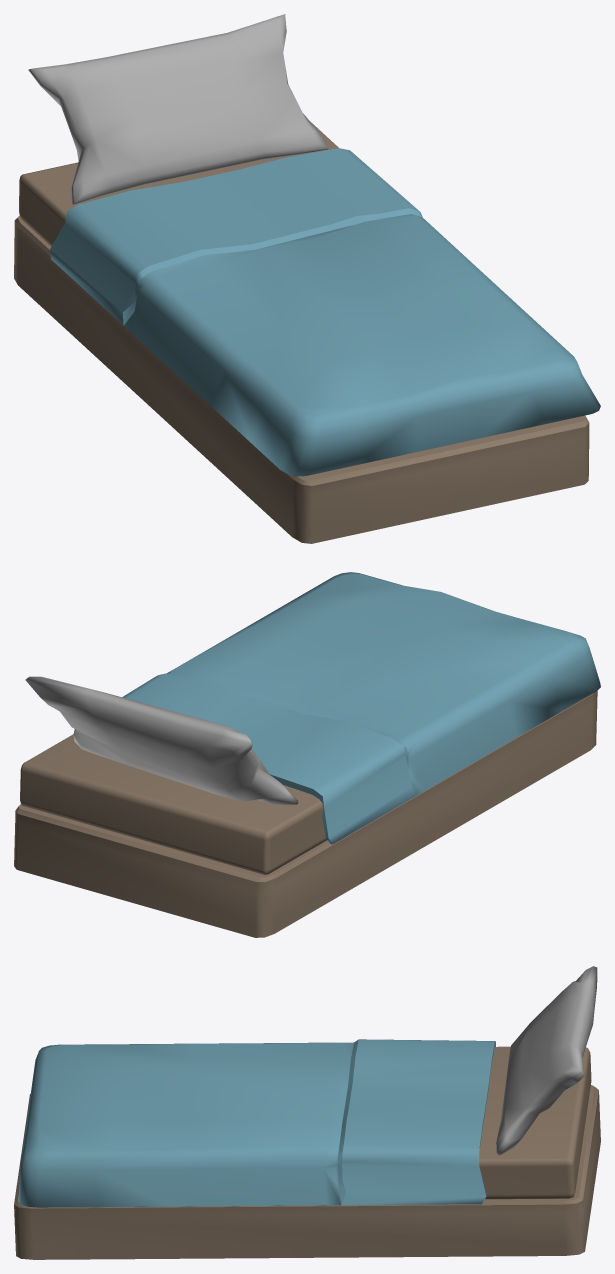
File: camaunity.fbx
3 renders of one model, top to bottom at view 1: azimuth 30°, elevation 25°; view 2: azimuth 150°, elevation 25°; view 3: azimuth 270°, elevation 25°, orthographic. The views are drawn at different scales.
Visible parts, largest first — view 1: Suite_cama_soporte; view 2: Suite_cama_soporte; view 3: Suite_cama_soporte.
Boxes of the visible parts, box(x1,y1,x2,y2) form: Suite_cama_soporte: box(14, 14, 600, 543); Suite_cama_soporte: box(14, 572, 600, 937); Suite_cama_soporte: box(14, 966, 600, 1259).
Bounding box in the file's own units: 3.76 × 2.46 × 6.58.
